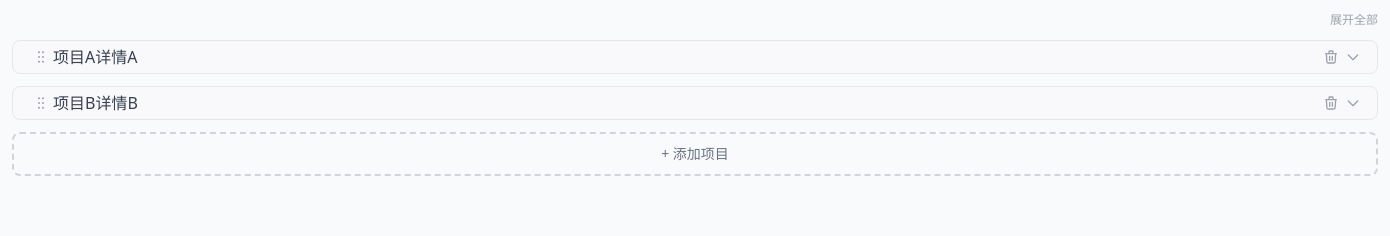
Scenario: DynamicList 折叠/展开功能 › 点击摘要行展开对应条目，显示详情
# 点击第一个条目的摘要区域
What coordinates should you click on to do the following:
click the element with test id "summary-1"
I would click on:
 (95, 57)
Its box is [53,46,138,68].
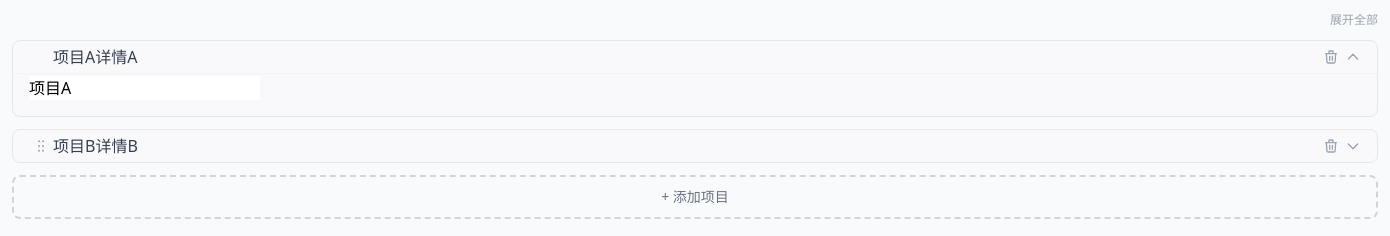
Now the element with test id "detail-1" is shown, box [29,76,260,100]
